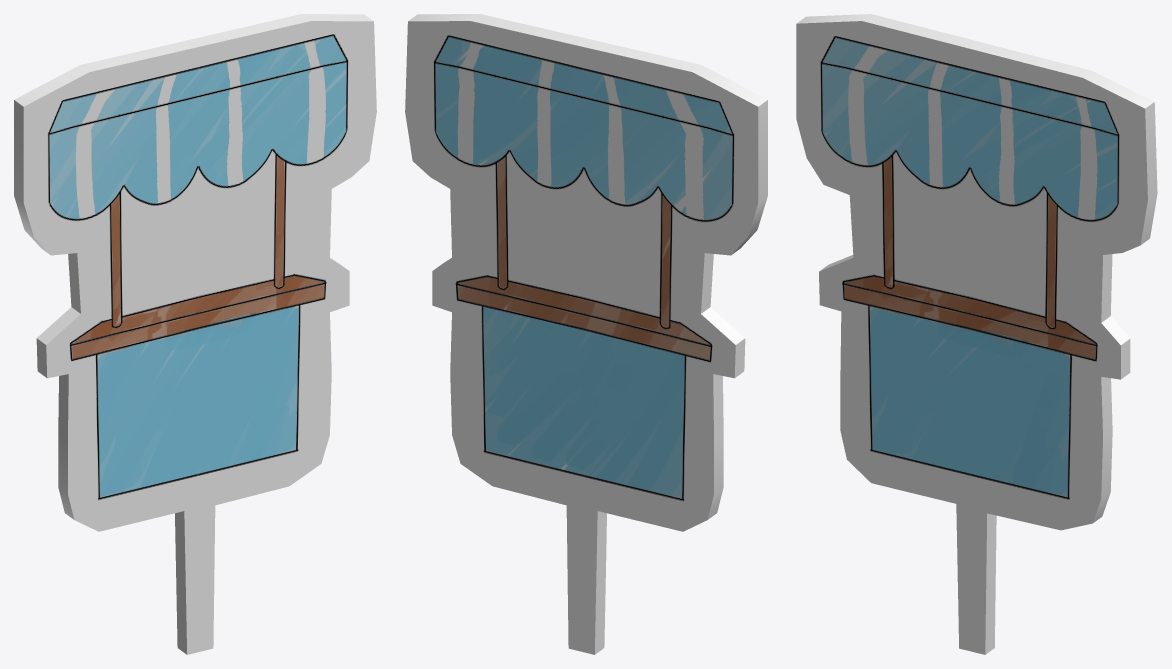
Rendered from bluestall.fbx.
3 views of the same model, side by side, from view 1: azimuth 30°, elevation 25°; view 2: azimuth 150°, elevation 25°; view 3: azimuth 330°, elevation 25° (orthographic).
Visible parts, largest first — view 1: stall1; view 2: stall1; view 3: stall1.
Boxes of the visible parts, <box> form: stall1: <box>14,14,376,654</box>; stall1: <box>405,14,767,654</box>; stall1: <box>796,14,1157,654</box>.
Size of the model in its own units: 17.35 by 28.47 by 0.8179.
